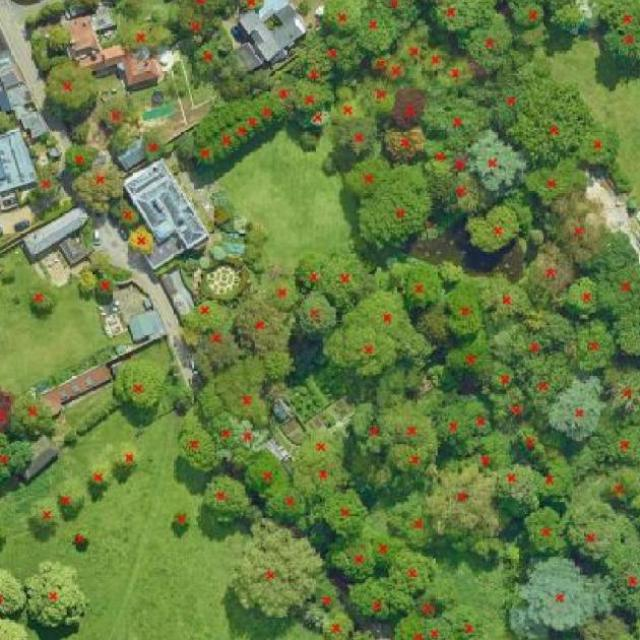tree: (234, 515, 322, 620), (512, 555, 616, 640), (501, 85, 596, 162), (356, 163, 432, 250), (352, 274, 428, 361), (425, 462, 505, 540), (595, 230, 640, 356), (21, 560, 92, 630), (550, 186, 604, 268), (544, 374, 604, 446), (321, 323, 399, 378), (420, 94, 494, 150), (213, 358, 270, 428), (234, 296, 296, 358), (464, 130, 523, 192), (461, 13, 523, 71), (518, 159, 595, 205), (572, 119, 626, 179), (461, 201, 522, 254), (317, 247, 369, 309), (384, 258, 445, 310), (344, 573, 408, 622), (110, 358, 166, 414), (565, 505, 620, 562), (70, 163, 125, 220), (524, 238, 574, 300), (378, 397, 436, 446), (604, 546, 640, 622), (179, 408, 219, 476), (44, 61, 96, 113), (437, 278, 483, 336), (201, 474, 248, 530), (319, 488, 371, 538), (428, 171, 492, 211), (190, 329, 244, 376), (9, 391, 59, 441), (290, 459, 354, 498), (483, 72, 528, 127), (494, 320, 554, 361), (461, 433, 511, 482), (482, 269, 529, 321), (392, 494, 439, 546), (437, 333, 492, 377), (573, 318, 614, 377), (417, 0, 498, 29), (326, 540, 381, 582), (294, 426, 350, 467), (95, 94, 136, 150), (338, 156, 392, 198), (296, 582, 350, 624), (241, 445, 286, 495), (178, 298, 235, 337), (593, 465, 640, 512), (604, 364, 640, 424), (522, 507, 567, 554), (496, 462, 544, 506), (0, 430, 32, 496), (351, 401, 390, 454), (295, 292, 334, 344), (316, 0, 370, 37), (0, 564, 32, 626), (565, 274, 608, 320), (434, 402, 472, 454), (586, 0, 640, 36), (356, 72, 397, 119), (357, 4, 394, 56), (336, 119, 386, 156), (380, 124, 429, 161), (528, 459, 572, 500), (230, 419, 268, 466), (395, 19, 430, 69), (317, 38, 360, 78), (118, 22, 170, 55), (391, 82, 426, 131), (259, 488, 309, 522), (418, 141, 462, 179), (356, 0, 420, 26), (396, 549, 432, 594), (463, 394, 496, 441), (502, 0, 552, 31), (264, 275, 307, 311), (312, 606, 357, 640), (515, 422, 548, 468), (383, 446, 438, 473), (61, 141, 101, 178), (199, 411, 241, 446), (366, 524, 400, 567), (191, 40, 234, 74), (607, 423, 640, 467), (292, 80, 331, 116), (601, 26, 640, 61), (174, 7, 214, 41), (257, 352, 298, 385), (518, 371, 560, 403), (192, 378, 223, 421), (330, 94, 368, 129), (489, 359, 520, 400), (27, 497, 60, 535), (497, 390, 529, 428), (448, 610, 487, 640), (436, 56, 470, 90), (392, 615, 437, 640), (180, 0, 233, 21), (0, 384, 19, 440), (270, 79, 300, 114), (124, 224, 155, 257), (82, 458, 111, 493), (412, 588, 445, 618), (1, 610, 33, 640), (30, 168, 57, 203), (55, 481, 80, 518), (252, 92, 280, 124), (141, 131, 165, 168), (190, 143, 224, 169), (298, 259, 327, 289), (26, 289, 54, 320), (419, 616, 454, 640), (296, 106, 332, 129), (299, 56, 325, 87), (213, 129, 243, 154), (365, 49, 396, 73), (114, 439, 139, 468), (113, 201, 141, 226), (424, 48, 451, 73), (47, 25, 73, 49), (382, 57, 405, 84), (77, 266, 98, 294), (229, 118, 254, 141), (238, 111, 263, 132), (170, 508, 192, 530), (95, 277, 117, 299), (72, 525, 93, 548), (450, 151, 467, 178), (68, 0, 108, 11), (230, 0, 265, 11), (0, 110, 12, 138), (0, 522, 8, 552)
